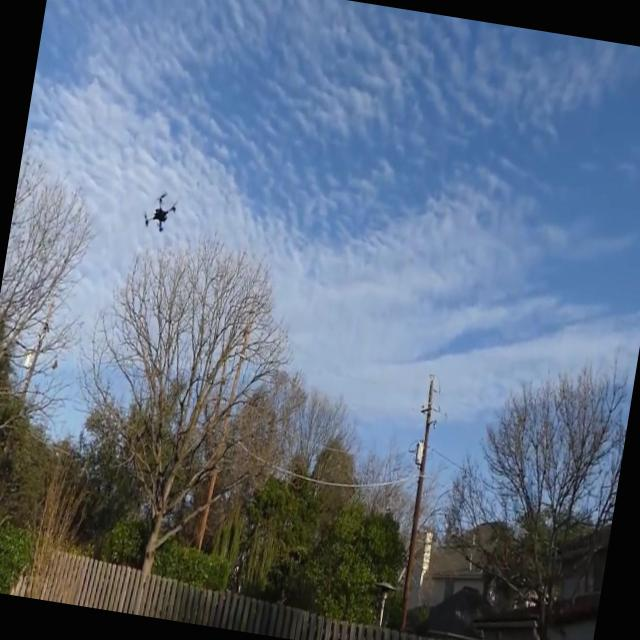drone: (140, 191, 180, 240)
